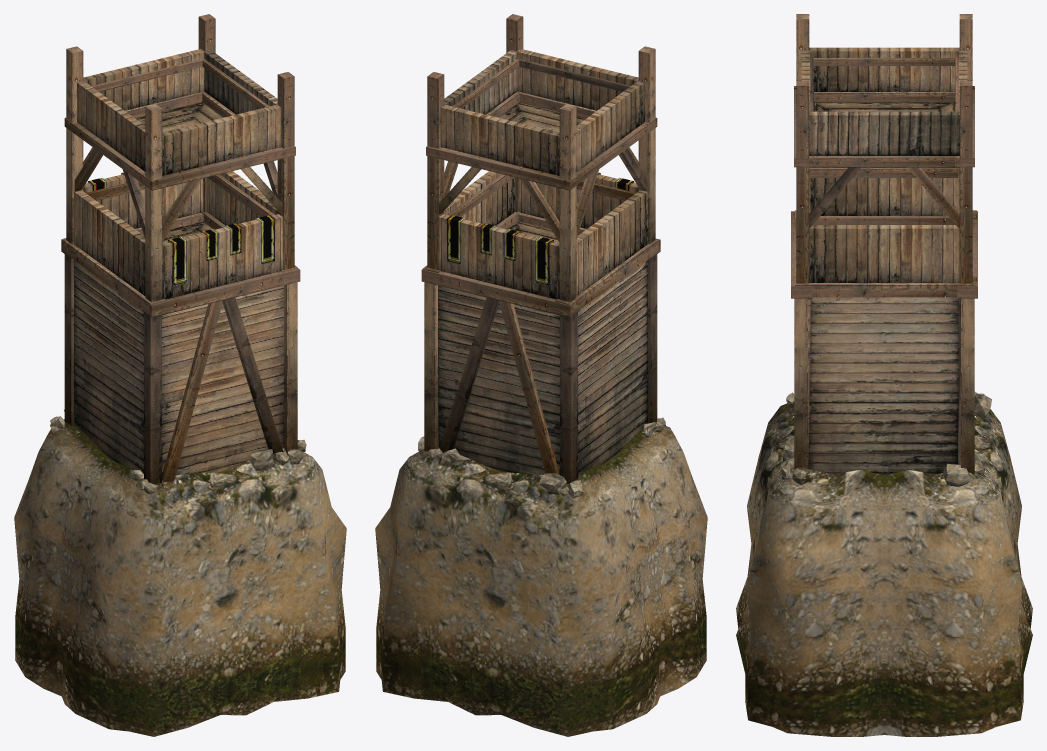
File: s_romans_siege_wall_tower.glb
3 views of the same model, side by side, from view 1: azimuth 30°, elevation 25°; view 2: azimuth 150°, elevation 25°; view 3: azimuth 270°, elevation 25° (orthographic). The views are drawn at different scales.
Parts seen in each view (by area): view 1: s_romans_siege_wall_tower_part0, s_romans_siege_wall_tower_part1, s_romans_siege_wall_tower_part2; view 2: s_romans_siege_wall_tower_part0, s_romans_siege_wall_tower_part1, s_romans_siege_wall_tower_part2; view 3: s_romans_siege_wall_tower_part0, s_romans_siege_wall_tower_part1.
Part boxes in pixels (x1,y1,x2,y2): s_romans_siege_wall_tower_part0: (61, 14, 300, 484); s_romans_siege_wall_tower_part1: (14, 409, 346, 736); s_romans_siege_wall_tower_part2: (87, 172, 274, 286); s_romans_siege_wall_tower_part0: (421, 14, 660, 484); s_romans_siege_wall_tower_part1: (375, 417, 707, 736); s_romans_siege_wall_tower_part2: (447, 172, 634, 286); s_romans_siege_wall_tower_part0: (791, 14, 977, 475); s_romans_siege_wall_tower_part1: (736, 391, 1032, 736).
Bounding box in the file's own units: 2.56 × 5.69 × 2.45.
Materials: 3 (3 with a texture image).
